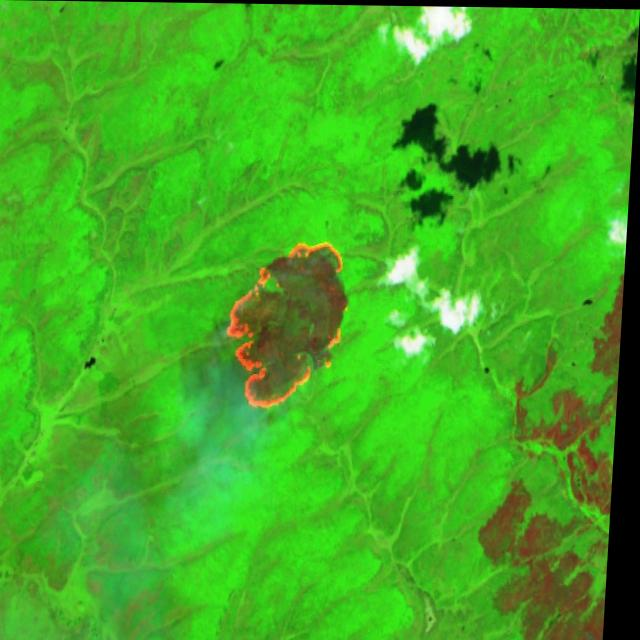fire: (223, 234, 360, 414)
